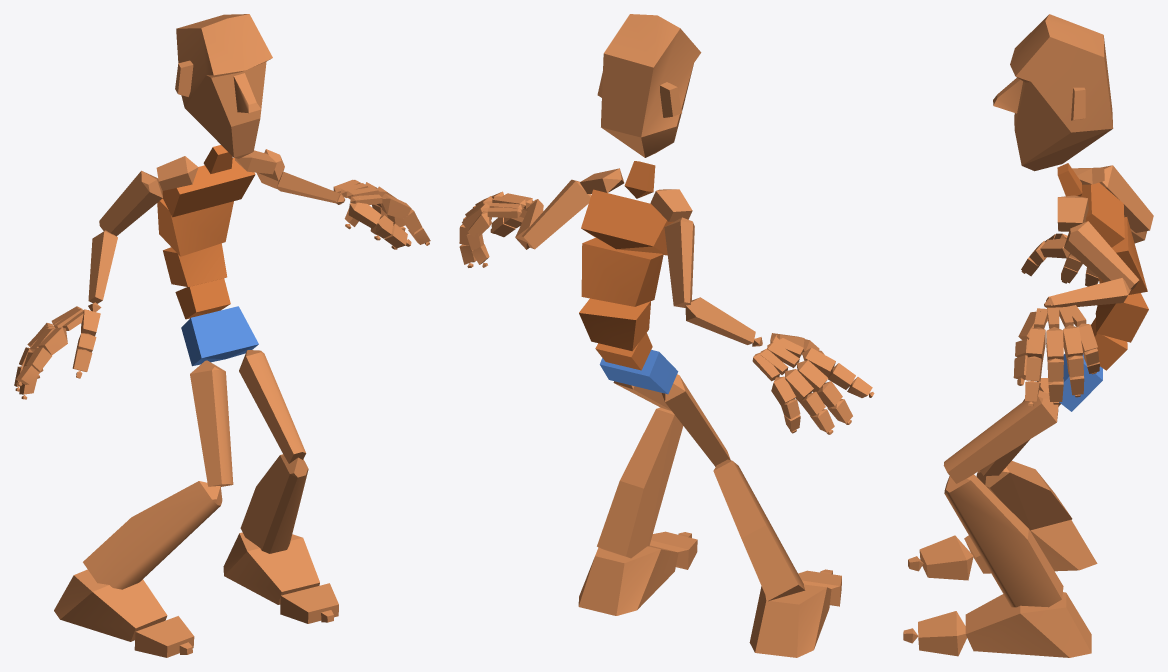
Rendered from prueba292.obj.
3 renders of one model, left to right at view 1: azimuth 30°, elevation 25°; view 2: azimuth 150°, elevation 25°; view 3: azimuth 270°, elevation 25°, orthographic. The views are drawn at different scales.
Parts seen in each view (by area): view 1: BOPED_Head, BOPED_R_leg, BOPED_R_foot, BOPED_L_leg, BOPED_R_foot01, BOPED_R_legup, Bone01, BOPED_L_legup, Bone04, Bone05, BOPED_R_arm_upper, Bone03 (+8 smaller); view 2: BOPED_Head, BOPED_L_leg, BOPED_R_leg, BOPED_R_foot01, BOPED_R_foot, Bone04, Bone05, Bone03, BOPED_R_legup, BOPED_R_arm_upper, BOPED_L_arm_upper, Bone01 (+7 smaller); view 3: BOPED_Head, BOPED_L_leg, BOPED_R_foot01, BOPED_L_legup, BOPED_R_leg, BOPED_R_foot, BOPED_L_arm_upper, Bone05, BOPED_R_foot_toe01, Bone03, BOPED_R_foot_toe04, BOPED_L_arm_fore (+15 smaller).
Boxes of the visible parts, <box> form: BOPED_Head: <box>175,14,272,158</box>; BOPED_R_leg: <box>83,481,222,589</box>; BOPED_R_foot: <box>54,569,167,641</box>; BOPED_L_leg: <box>240,454,308,553</box>; BOPED_R_foot01: <box>223,532,319,604</box>; BOPED_R_legup: <box>190,360,233,486</box>; Bone01: <box>181,306,258,366</box>; BOPED_L_legup: <box>239,350,306,463</box>; Bone04: <box>157,198,233,256</box>; Bone05: <box>162,157,255,217</box>; BOPED_R_arm_upper: <box>99,170,162,236</box>; Bone03: <box>163,243,227,286</box>; BOPED_Head: <box>597,14,701,157</box>; BOPED_L_leg: <box>597,407,683,558</box>; BOPED_R_leg: <box>713,459,805,601</box>; BOPED_R_foot01: <box>578,545,678,615</box>; BOPED_R_foot: <box>749,584,831,657</box>; Bone04: <box>581,238,663,306</box>; Bone05: <box>581,189,673,255</box>; Bone03: <box>579,298,650,351</box>; BOPED_R_legup: <box>661,374,730,466</box>; BOPED_R_arm_upper: <box>664,217,694,307</box>; BOPED_L_arm_upper: <box>521,179,591,249</box>; Bone01: <box>599,350,678,394</box>; BOPED_Head: <box>993,14,1113,171</box>; BOPED_L_leg: <box>944,474,1063,607</box>; BOPED_R_foot01: <box>965,592,1091,657</box>; BOPED_L_legup: <box>943,390,1058,483</box>; BOPED_R_leg: <box>976,461,1072,530</box>; BOPED_R_foot: <box>964,520,1097,573</box>; BOPED_L_arm_upper: <box>1064,221,1139,291</box>; Bone05: <box>1081,182,1124,247</box>; BOPED_R_foot_toe01: <box>919,535,973,580</box>; Bone03: <box>1095,293,1148,342</box>; BOPED_R_foot_toe04: <box>918,611,966,656</box>; BOPED_L_arm_fore: <box>1046,278,1131,307</box>.
Bounding box in the file's own units: 130 × 175 × 65.59.
